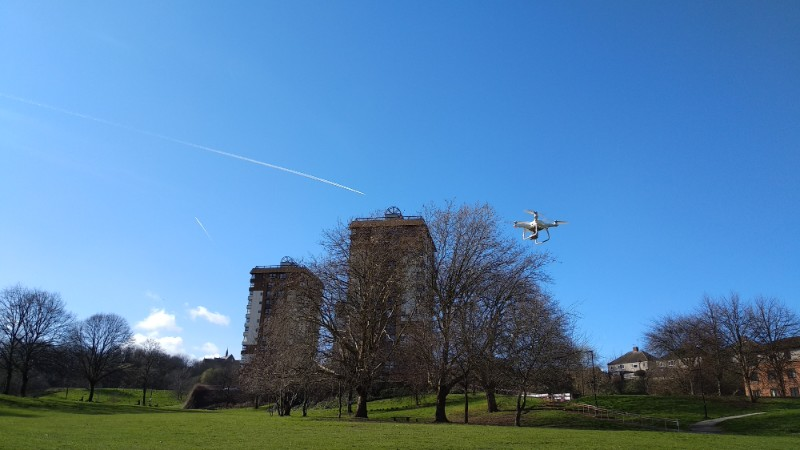drone: (508, 207, 569, 246)
